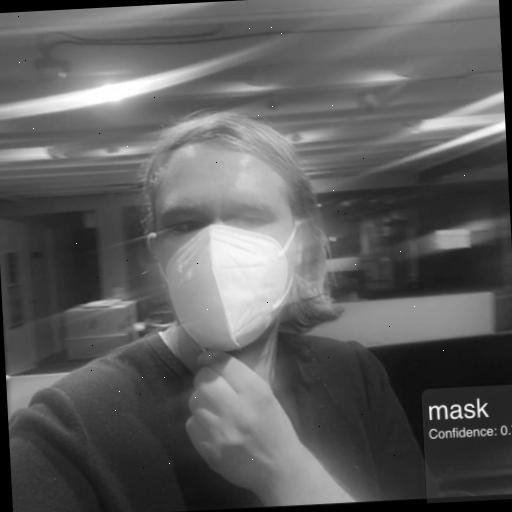mask: (120, 84, 338, 356)
